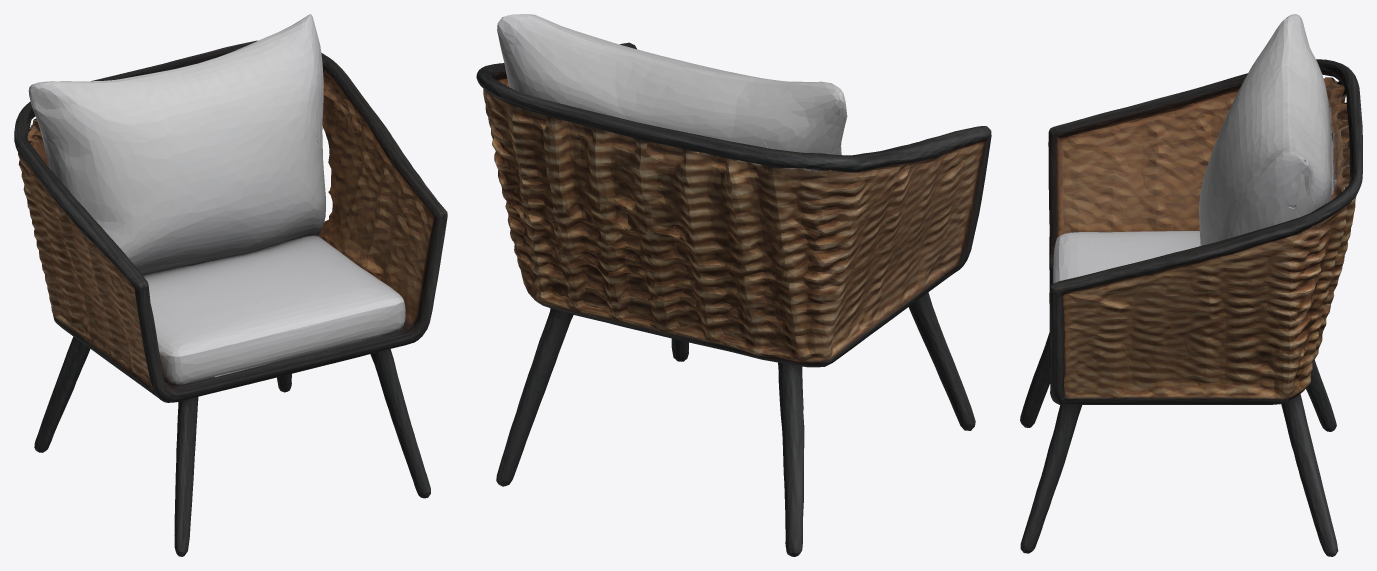
File: sf156-sessel.glb
The picture shows the model from 3 angles, left to right: view 1: azimuth 30°, elevation 25°; view 2: azimuth 150°, elevation 25°; view 3: azimuth 270°, elevation 25°; orthographic projection. The views are drawn at different scales.
Visible parts, largest first — view 1: geometry_0; view 2: geometry_0; view 3: geometry_0.
Boxes of the visible parts, x1,y1,x2,y2 form: geometry_0: (14, 14, 447, 556); geometry_0: (476, 14, 991, 556); geometry_0: (1020, 14, 1362, 556).
Size of the model in its own units: 0.8794 by 0.9989 by 0.7634.
Materials: 1 (1 with a texture image).
